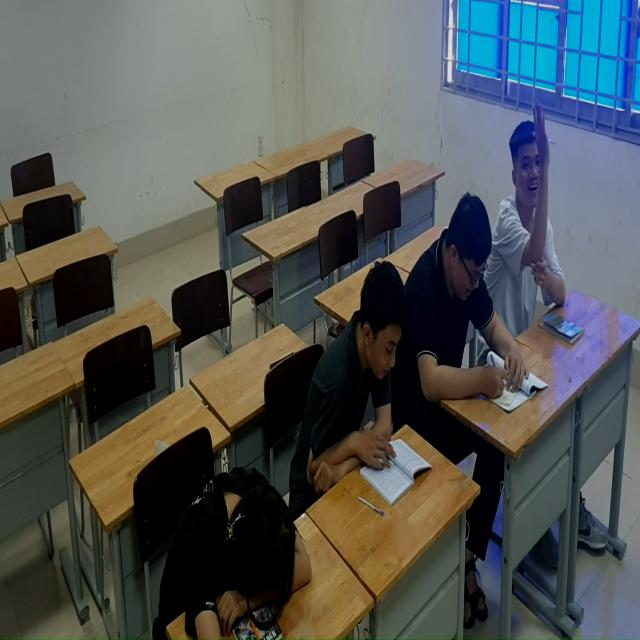raise_hand: (498, 89, 601, 336)
read: (284, 255, 433, 510), (417, 184, 529, 431)
sleep: (149, 453, 310, 640)
